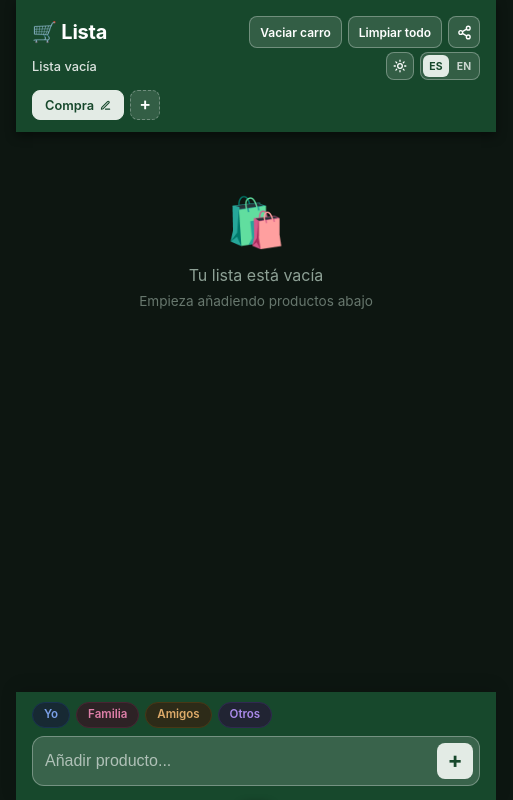
Scenario: App with several lists › keeps each list's products separate
In the field with placeholder "Añadir producto...": [237, 761] box [45, 743, 429, 779], type "Leche"
Press Enter in the field with placeholder "Añadir producto...", box [45, 743, 429, 779]
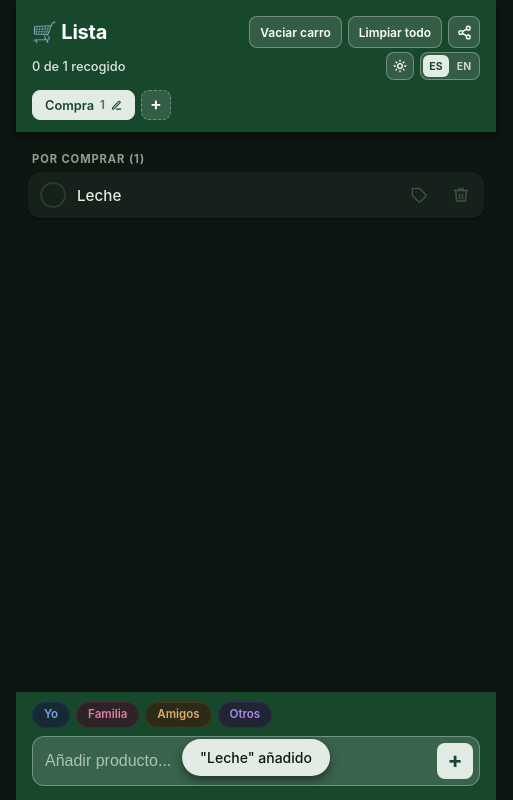
Click the button named "Nueva lista": [156, 105] box [141, 90, 171, 120]
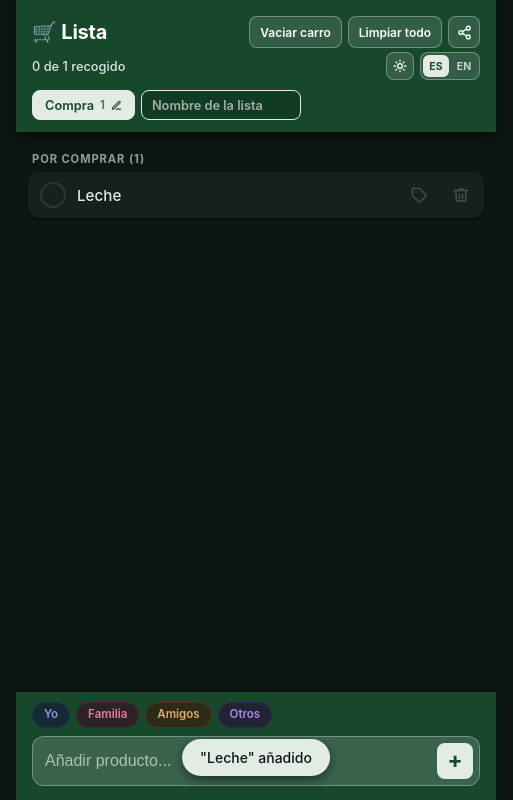
In the field named "Nueva lista": [221, 105] box [141, 90, 301, 120], type "Fiesta"
Press Enter in the field named "Nueva lista", box [141, 90, 301, 120]
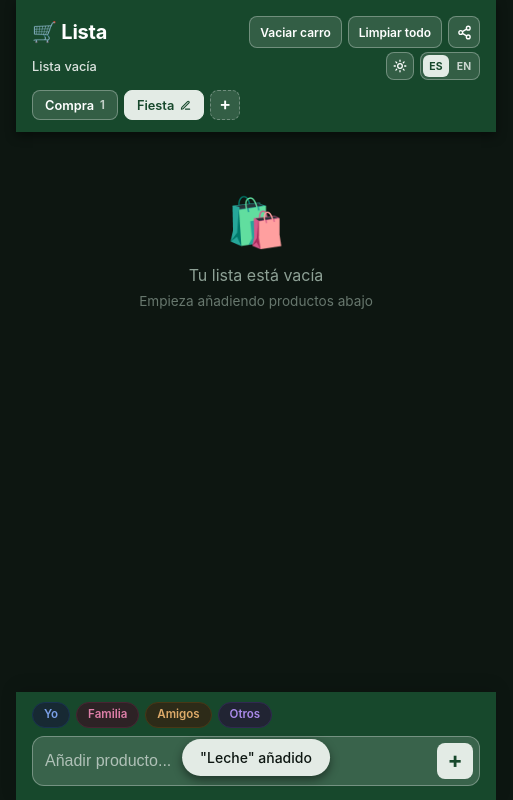
In the field with placeholder "Añadir producto...": [237, 761] box [45, 743, 429, 779], type "Globos"
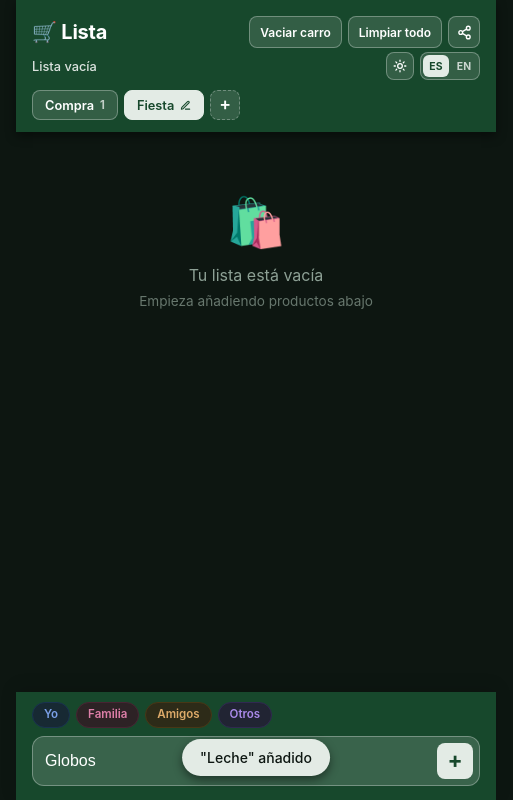
Press Enter in the field with placeholder "Añadir producto...", box [45, 743, 429, 779]
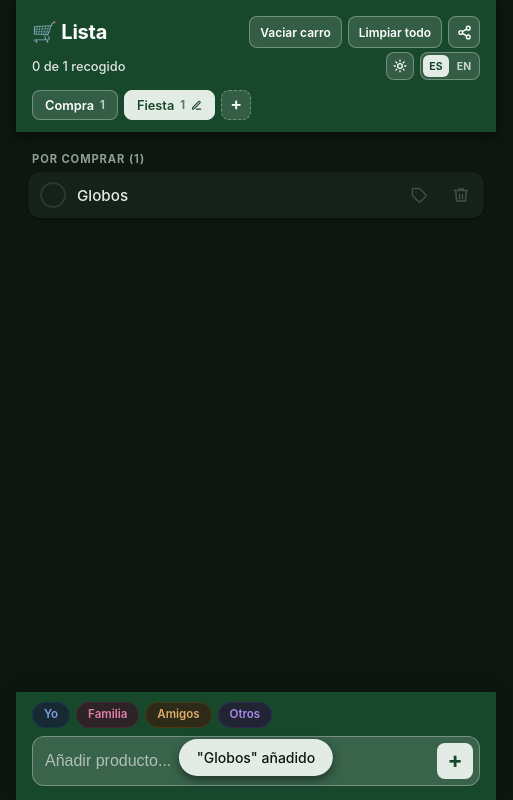
Click the button "Compra 1": [75, 105] box [32, 90, 118, 120]
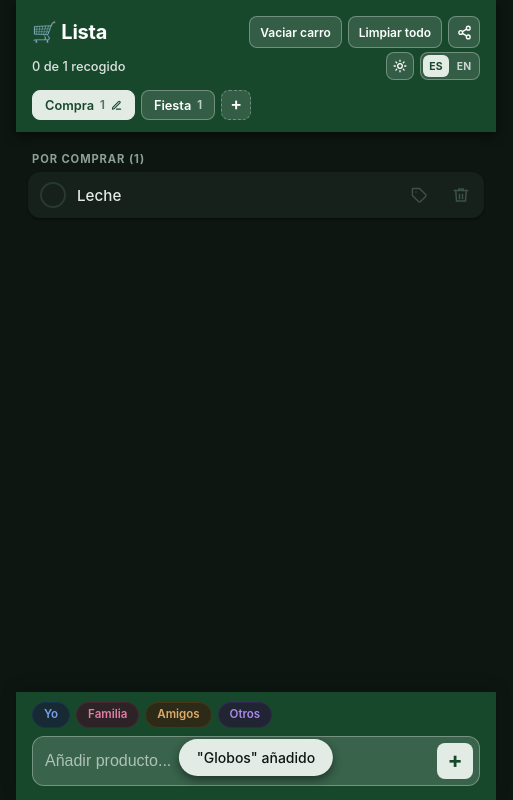
Expected: the text "Leche" is shown, [77, 186, 121, 204]
